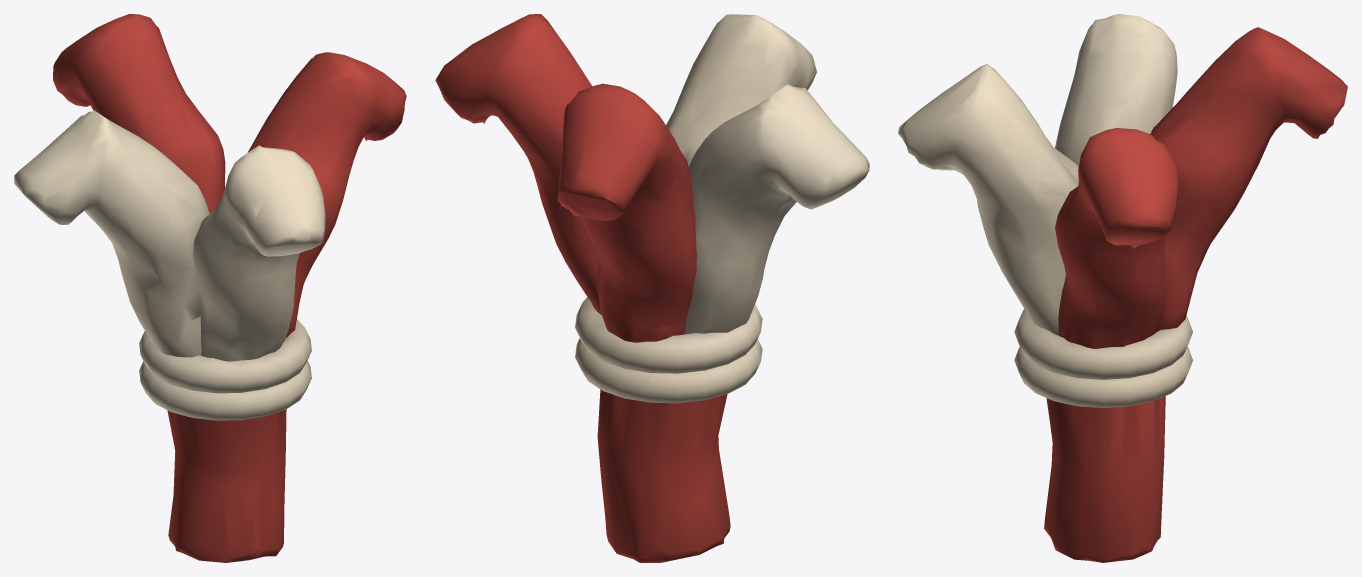
The model's file is den_fringe_tassel_b.glb.
The picture shows the model from 3 angles, left to right: view 1: azimuth 30°, elevation 25°; view 2: azimuth 150°, elevation 25°; view 3: azimuth 270°, elevation 25°; orthographic projection. The views are drawn at different scales.
Parts seen in each view (by area): view 1: den_fringe_tassel_b; view 2: den_fringe_tassel_b; view 3: den_fringe_tassel_b.
Boxes of the visible parts, box(x1,y1,x2,y2) form: den_fringe_tassel_b: box(14, 14, 406, 562); den_fringe_tassel_b: box(435, 14, 869, 562); den_fringe_tassel_b: box(898, 14, 1347, 562).
Bounding box in the file's own units: 4.17 × 5 × 4.11.
